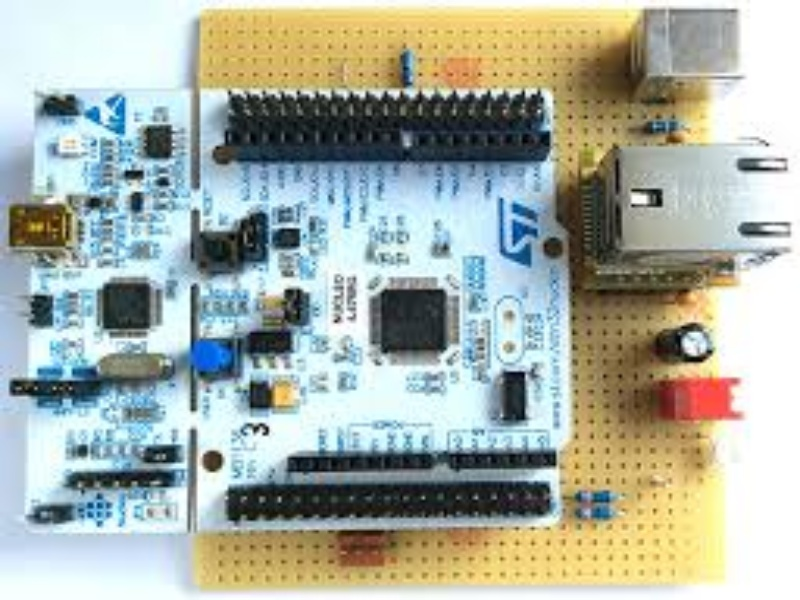stmnucleo: (14, 61, 578, 544)
